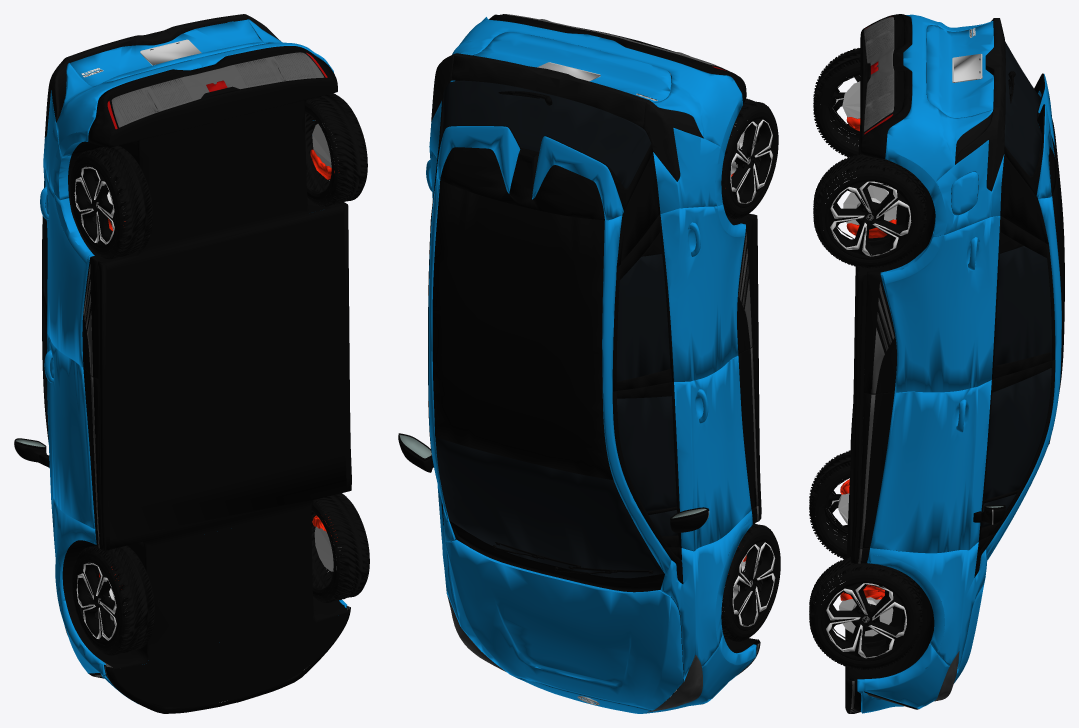
File: car.obj
3 views of the same model, side by side, from view 1: azimuth 30°, elevation 25°; view 2: azimuth 150°, elevation 25°; view 3: azimuth 270°, elevation 25° (orthographic). The views are drawn at different scales.
Visible parts, largest first — view 1: body, rear_left, front_left, rear_right, front_right; view 2: body, front_left, rear_left; view 3: body, rear_right, front_right, rear_left, front_left.
Part boxes in pixels (x1,y1,x2,y2): body: [14, 14, 351, 713]; rear_left: [70, 145, 153, 259]; front_left: [72, 545, 155, 655]; rear_right: [305, 93, 367, 206]; front_right: [311, 493, 369, 602]; body: [398, 14, 761, 713]; front_left: [721, 523, 780, 641]; rear_left: [721, 98, 778, 218]; body: [845, 14, 1064, 713]; rear_right: [813, 154, 926, 268]; front_right: [809, 557, 922, 669]; rear_left: [813, 48, 860, 157]; front_left: [809, 450, 850, 558].
Bounding box in the file's own units: 2090 × 4287 × 1575.
1 material, 1 textured.
